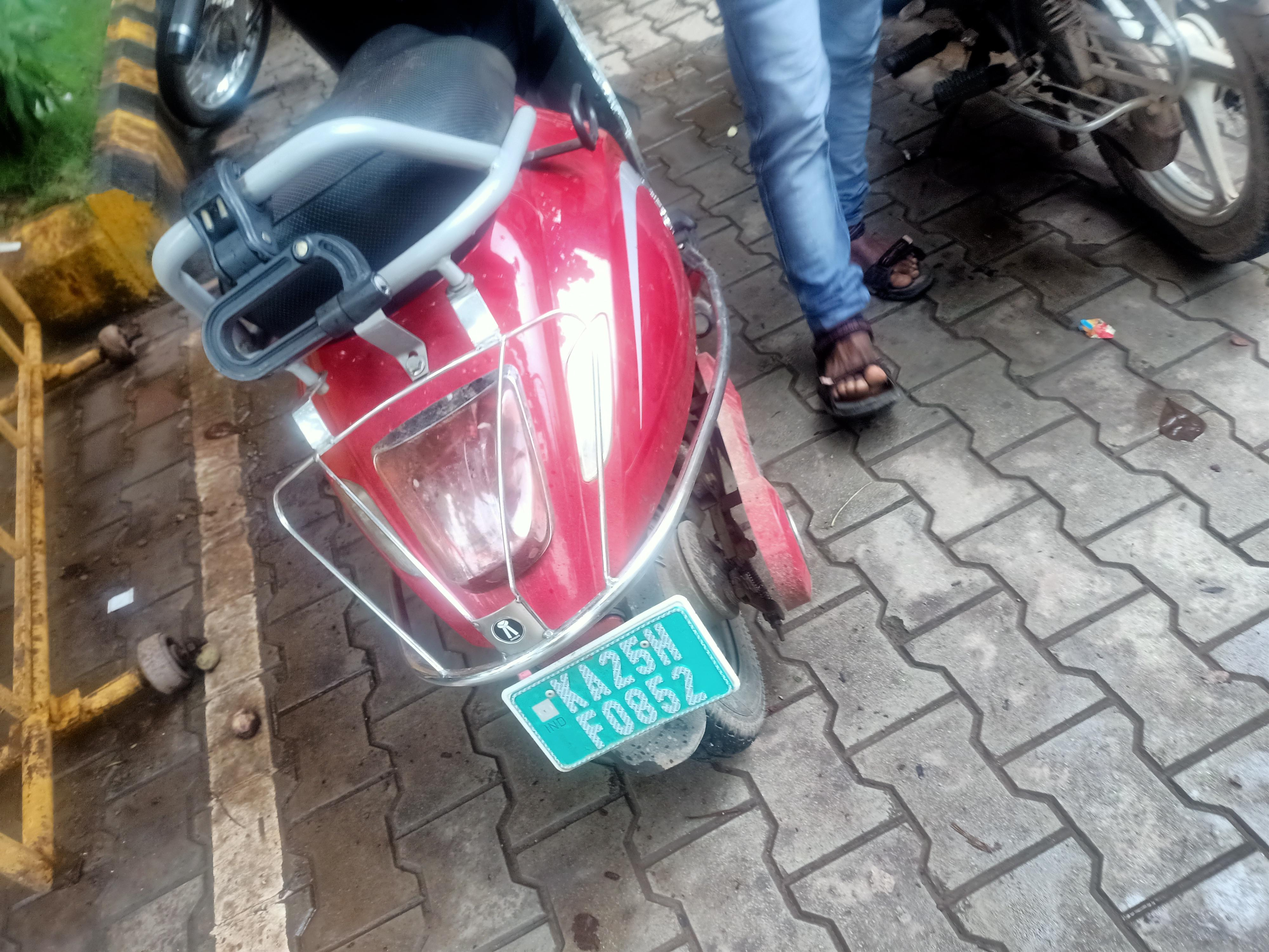green license plate: (501, 593, 745, 774)
